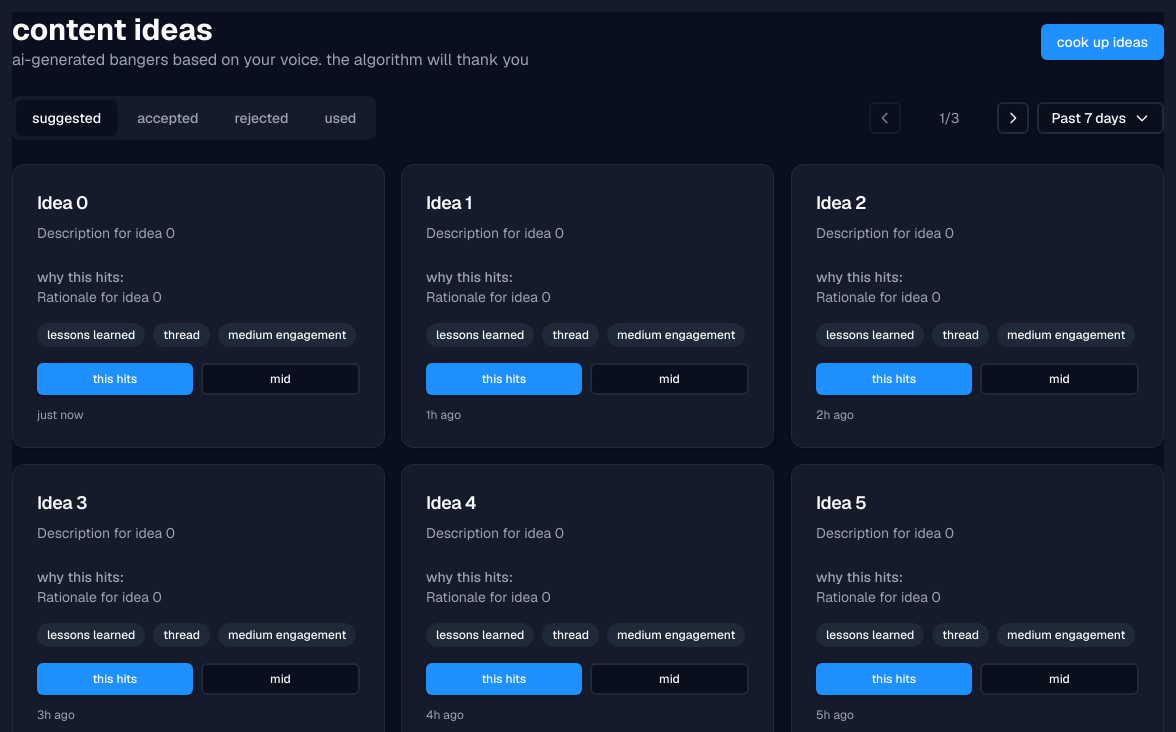
Test: Ideas Dashboard - Pagination Integration › Pagination Reset on Date Range Change › should reset to page 1 when changing date range
This screenshot has width=1176, height=732.
Navigate to page 2
Step 1. Click the button named "Next page" → (1013, 118), box 997,102 -> 1029,134
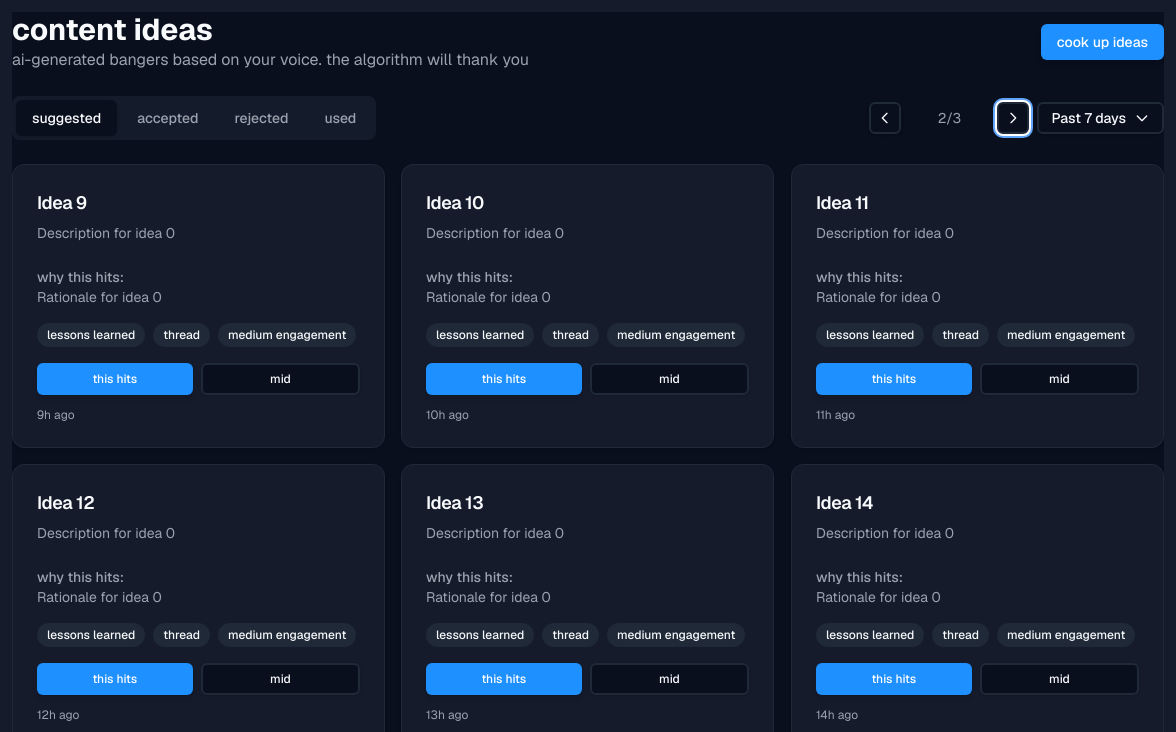
Result: the text "2/3" is shown at 938,109 -> 961,127
Step 2. Click the button "Past 7 days" → (1101, 118), box 1037,102 -> 1164,134
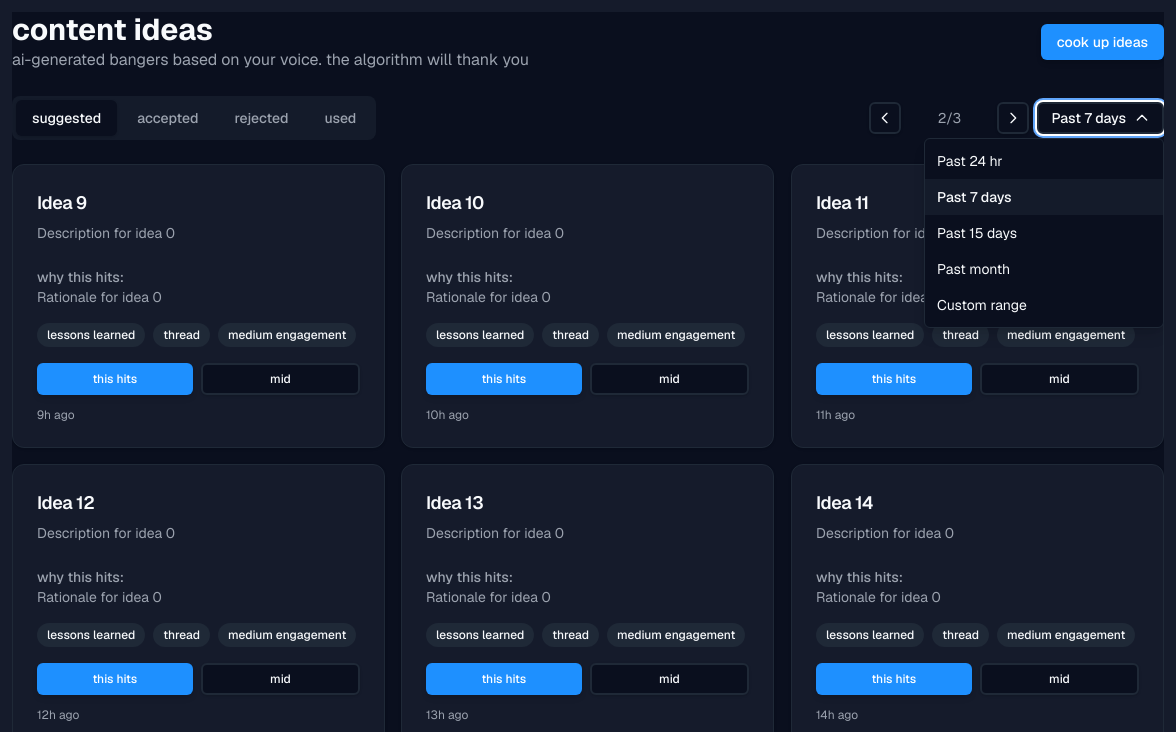
Step 3. Click the button "Past 15 days" → (1044, 233), box 925,215 -> 1163,251
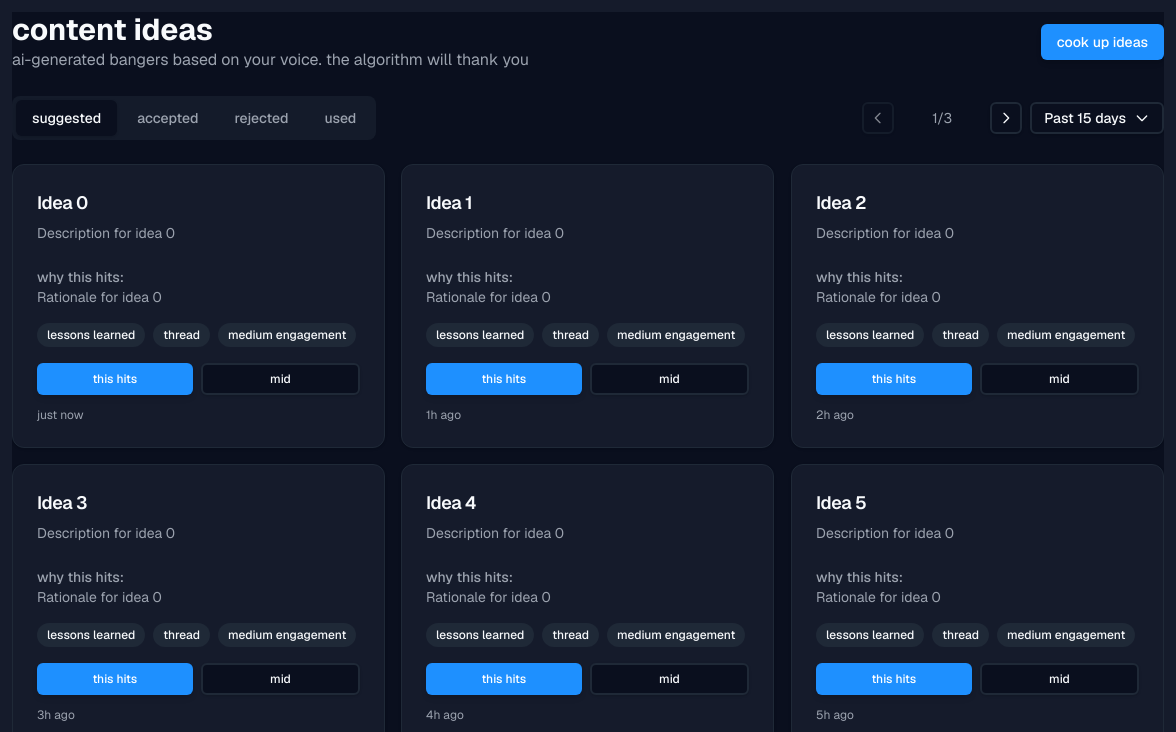
Result: the text "1/3" is shown at 932,109 -> 952,127
